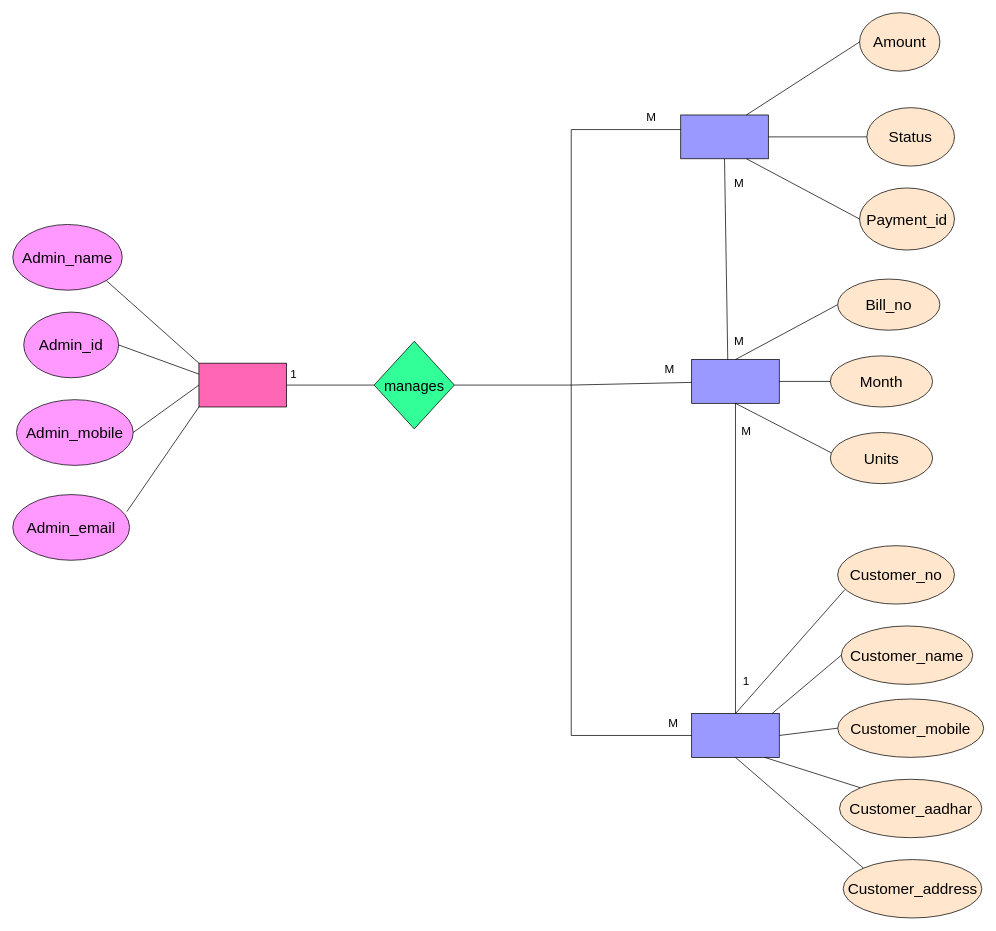
This 996x931 diagram has some shape labels left out. The shapes that lost their labels are listed below. From the top down, each one's centre as x and y in pixels, then its label:
the point at 724,136: Payment
the point at 242,384: Admin
the point at 735,381: Bills
the point at 735,735: Customer
